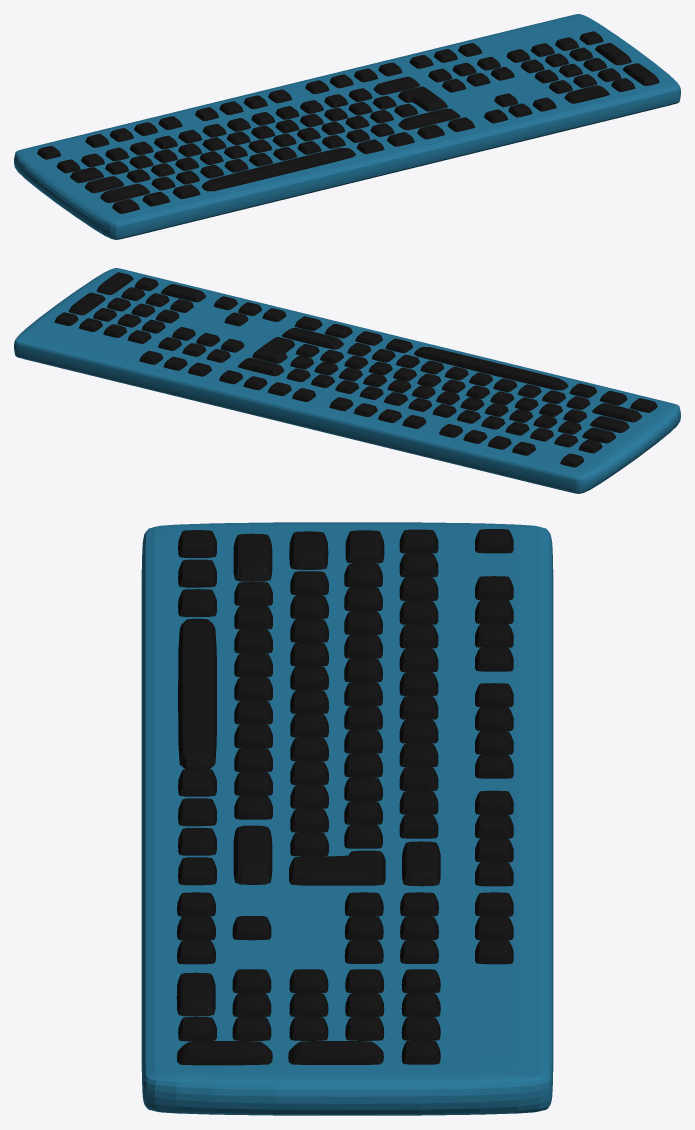
File: keyboard.glb
3 renders of one model, top to bottom at view 1: azimuth 30°, elevation 25°; view 2: azimuth 150°, elevation 25°; view 3: azimuth 270°, elevation 25°, orthographic. The views are drawn at different scales.
Parts seen in each view (by area): view 1: Cube.003; view 2: Cube.003; view 3: Cube.003.
Part boxes in pixels (bbox=[...]): Cube.003: bbox=[14, 14, 680, 239]; Cube.003: bbox=[14, 268, 680, 493]; Cube.003: bbox=[141, 522, 553, 1115].
Bounding box in the file's own units: 2.56 × 0.1014 × 0.7801.
